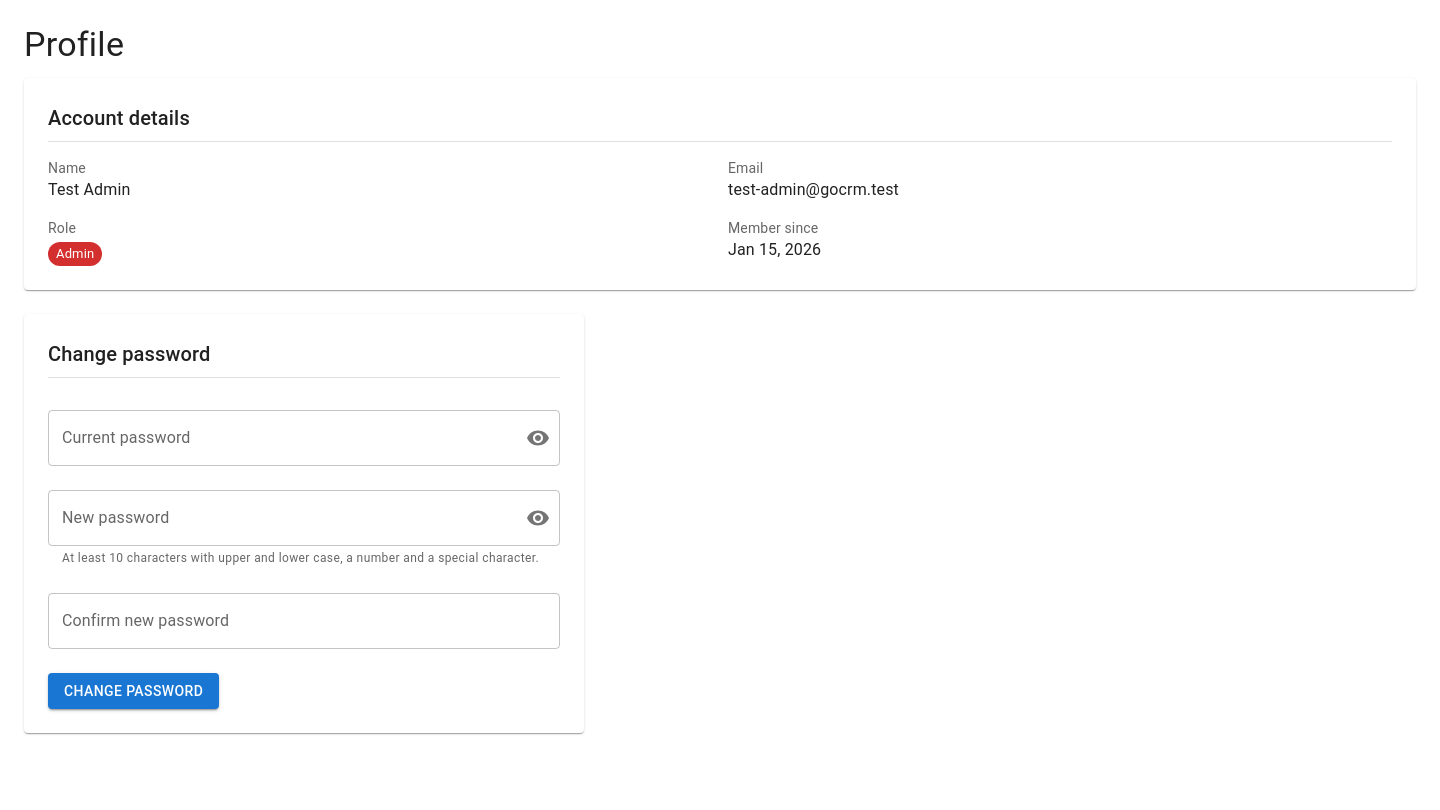
Test: Profile › explains that every session must sign in again when no session was renewed
In the password field labelled "Current password": (279, 438) [48, 410, 510, 466], type "OldStrongPass1!"
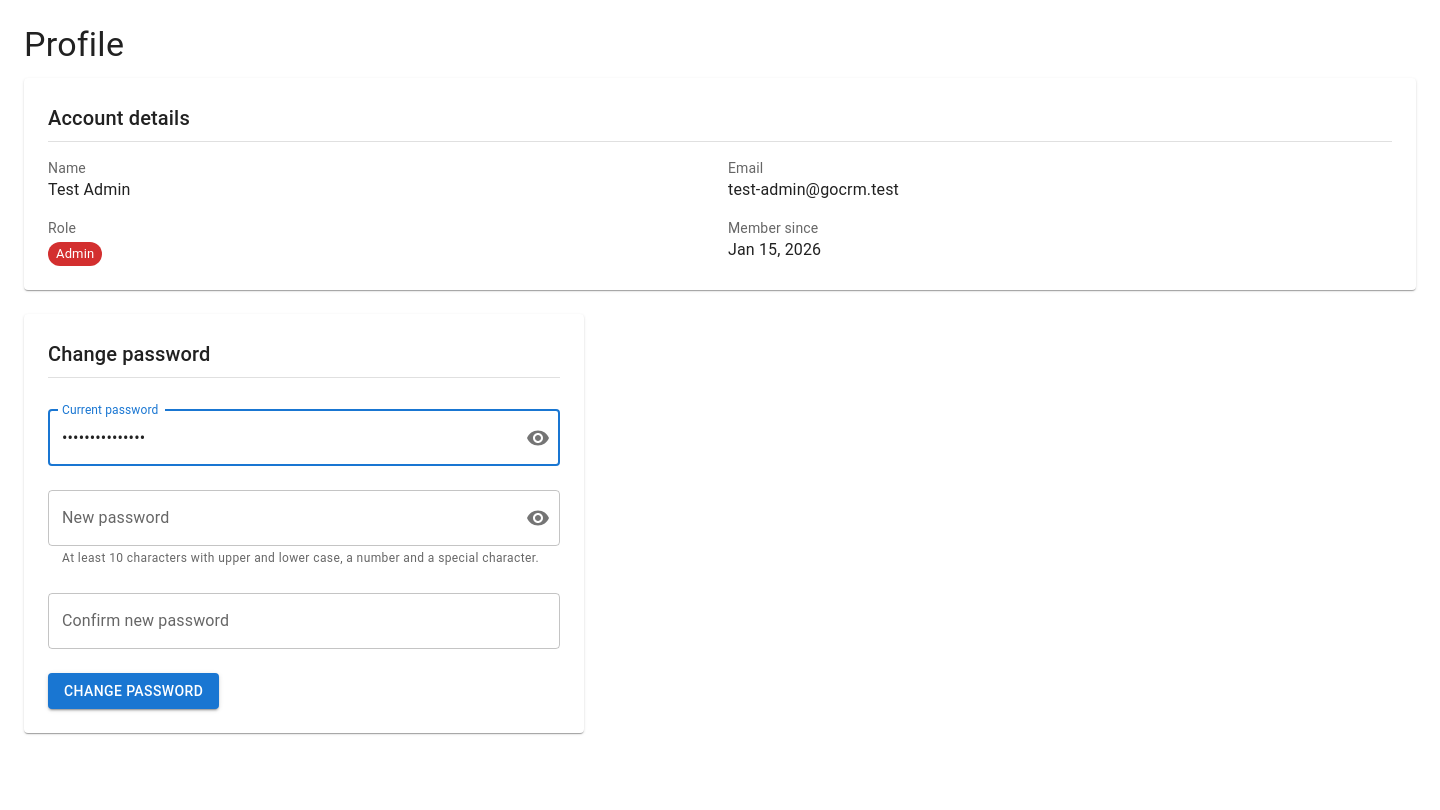
In the password field labelled "New password": (279, 518) [48, 490, 510, 546], type "NewStrongPass1!"
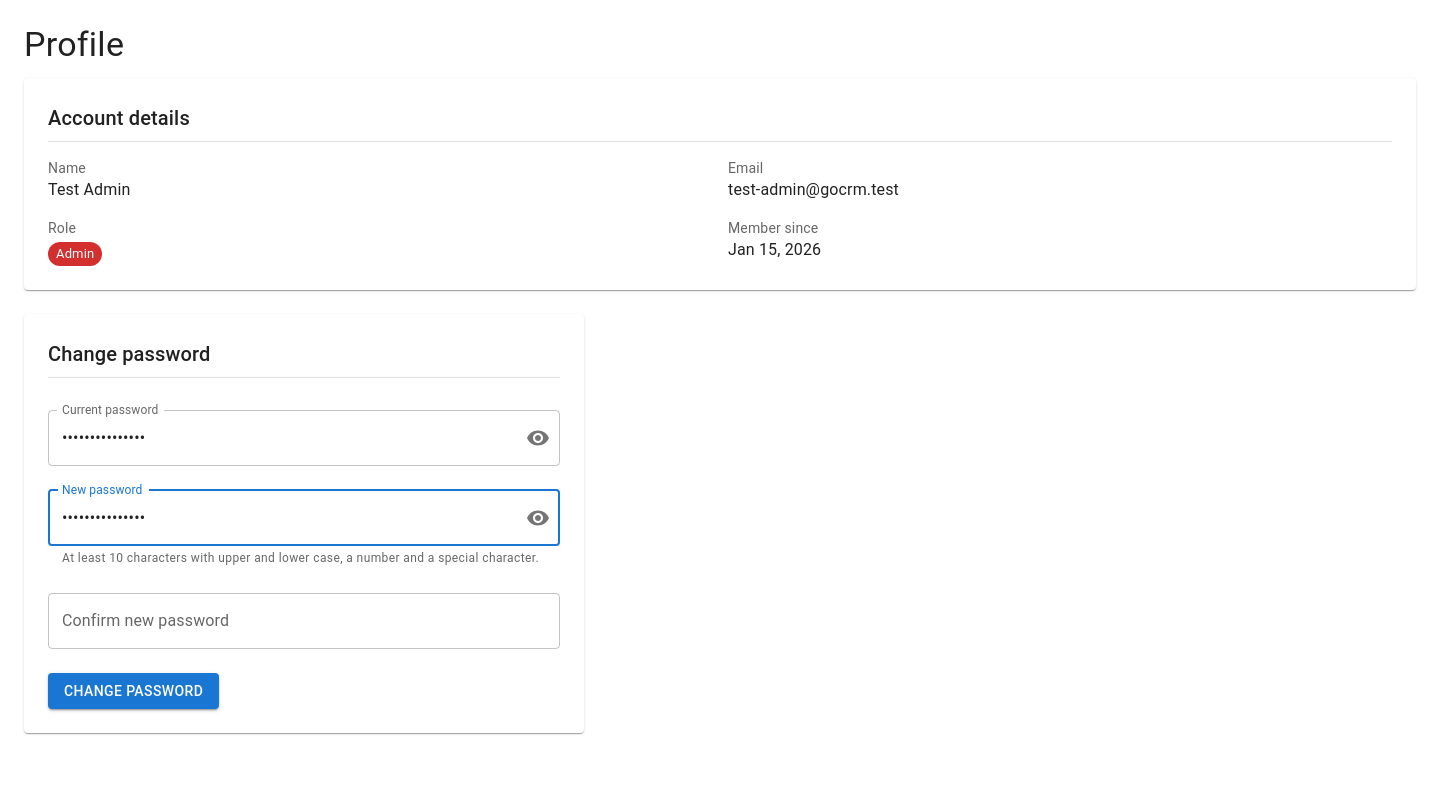
In the password field labelled "Confirm new password": (304, 621) [48, 593, 560, 649], type "NewStrongPass1!"
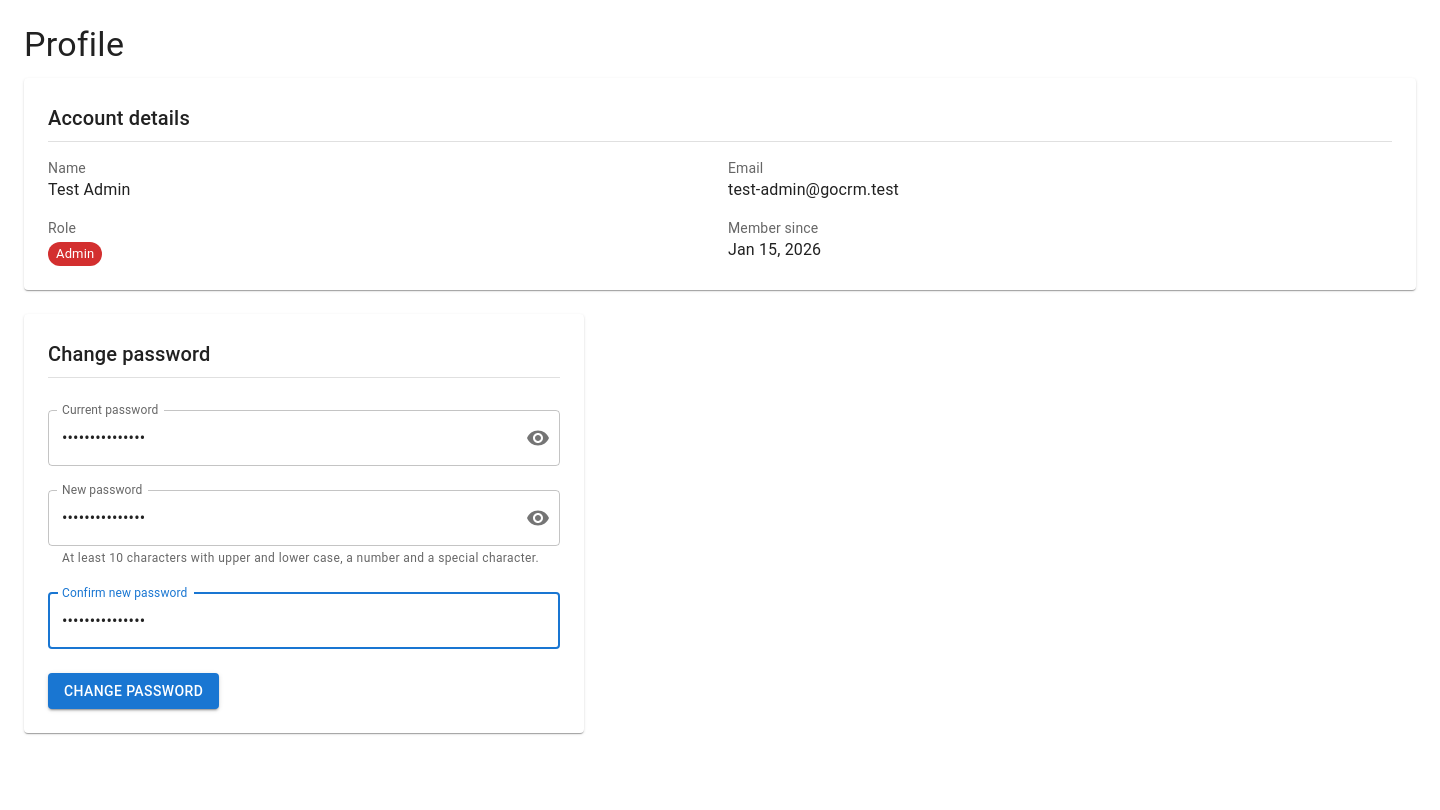
Click the button "Change password": (134, 691) [48, 673, 219, 709]
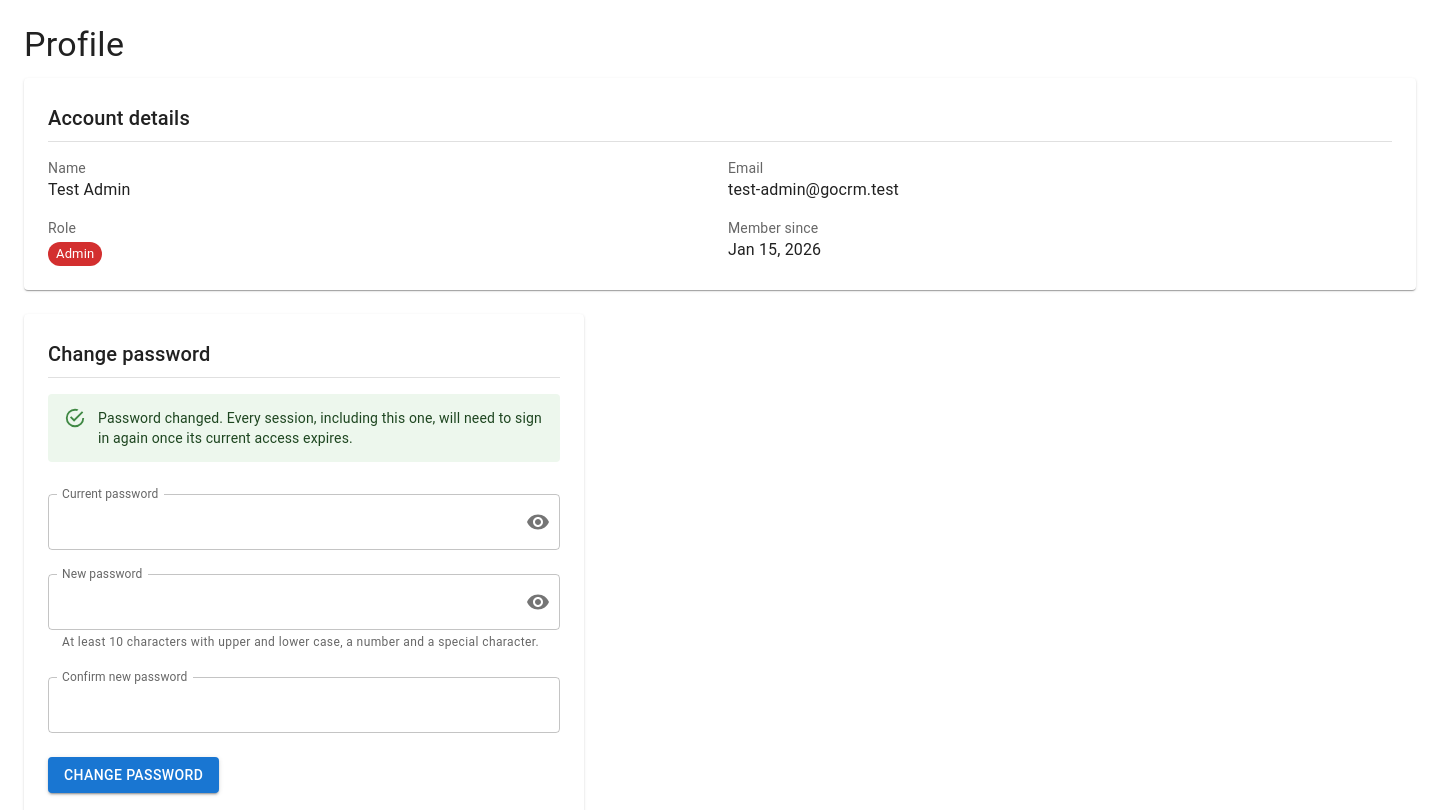
expect the text "Every session, including this one, will need to sign in again" is shown: met, box [98, 410, 542, 446]
